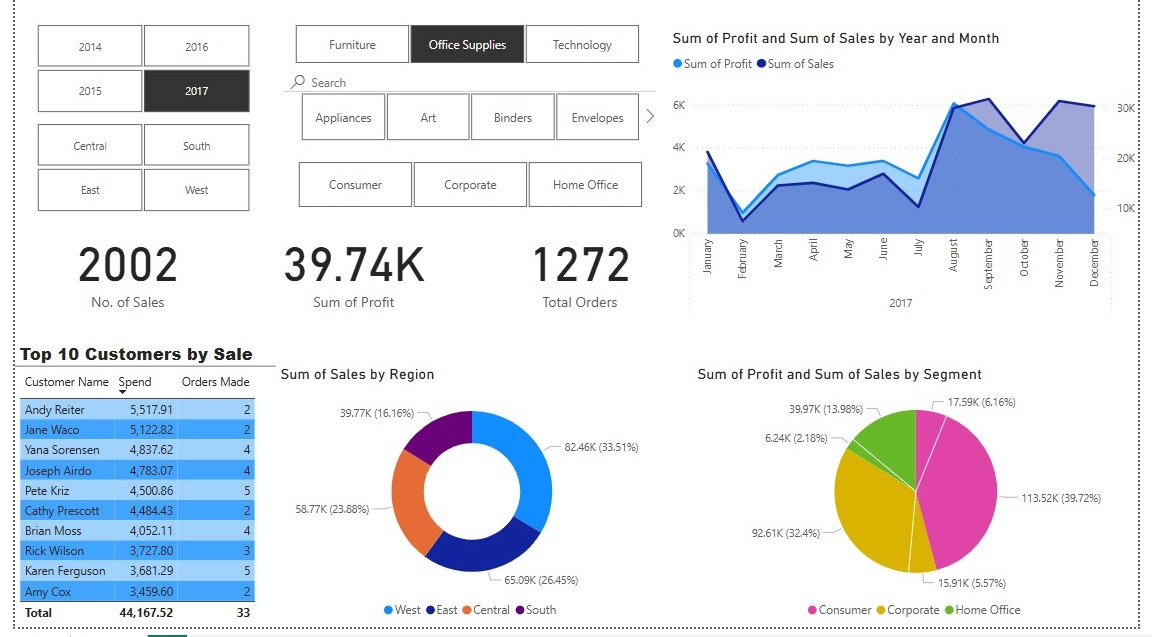

Layout of this report page (visuals, bound fields, positions):
{"tool":"powerbi","page":{"name":"Page 2","canvas":[1280,720],"ordinal":1},"visuals":[{"type":"card","fields":{"Values":["Data Sheet.No. of Sales"]},"box":[0,248.4,257.5,125.3],"z":0},{"type":"card","fields":{"Values":["Data Sheet.Profit"]},"box":[257.5,248.4,257.5,125.3],"z":1000},{"type":"card","fields":{"Values":["Data Sheet.Order ID"]},"box":[514.9,248.4,257.5,125.3],"z":2000},{"type":"slicer","fields":{"Values":["Data Sheet.Region"]},"box":[0,140.1,290.5,112.8],"z":3000},{"type":"slicer","fields":{"Values":["Data Sheet.Category"]},"box":[293.9,27.3,440.9,57],"z":4000},{"type":"slicer","fields":{"Values":["Data Sheet.Order Date.Variation.Date Hierarchy.Year"]},"box":[0,27.3,290.5,112.8],"z":5000},{"type":"slicer","fields":{"Values":["Data Sheet.Segment"]},"box":[297.3,183.4,440.9,64.9],"z":6000},{"type":"slicer","fields":{"Values":["Data Sheet.Sub-Category"]},"box":[300.8,84.3,434.1,87.7],"z":7000},{"type":"areaChart","fields":{"Y":["Data Sheet.Profit"],"Y2":["Data Sheet.Sales"],"Category":["Data Sheet.Order Date.Variation.Date Hierarchy.Year","Data Sheet.Order Date.Variation.Date Hierarchy.Month"]},"box":[743.9,38.7,536.6,334.9],"z":8000},{"type":"tableEx","title":"Top 10 Customers by Sale","fields":{"Values":["Data Sheet.Customer Name","Data Sheet.Sales","Data Sheet.Order ID"]},"box":[0,395.3,297.3,324.7],"z":9000},{"type":"donutChart","fields":{"Category":["Data Sheet.Category","Data Sheet.Region"],"Y":["Data Sheet.Sales"]},"box":[297.3,421.5,446.6,298.5],"z":10000},{"type":"pieChart","fields":{"Y":["Data Sheet.Profit","Data Sheet.Sales"],"Category":["Data Sheet.Segment"]},"box":[772.4,421.5,508.1,298.5],"z":10001}]}

Visuals, with their boxes in screenshot pixels (x1, y1, x2, y2), scaled from the page's 1280x720 canvas onto the 1152x637 screenshot:
card - Data Sheet.No. of Sales: bbox=[0, 220, 232, 331]
card - Data Sheet.Profit: bbox=[232, 220, 464, 331]
card - Data Sheet.Order ID: bbox=[463, 220, 695, 331]
slicer - Data Sheet.Region: bbox=[0, 124, 261, 224]
slicer - Data Sheet.Category: bbox=[265, 24, 661, 75]
slicer - Data Sheet.Order Date.Variation.Date Hierarchy.Year: bbox=[0, 24, 261, 124]
slicer - Data Sheet.Segment: bbox=[268, 162, 664, 220]
slicer - Data Sheet.Sub-Category: bbox=[271, 75, 661, 152]
areaChart - Data Sheet.Profit x Data Sheet.Sales: bbox=[670, 34, 1151, 331]
"Top 10 Customers by Sale" tableEx: bbox=[0, 350, 268, 636]
donutChart - Data Sheet.Category x Data Sheet.Region: bbox=[268, 373, 670, 636]
pieChart - Data Sheet.Profit x Data Sheet.Sales: bbox=[695, 373, 1151, 636]
